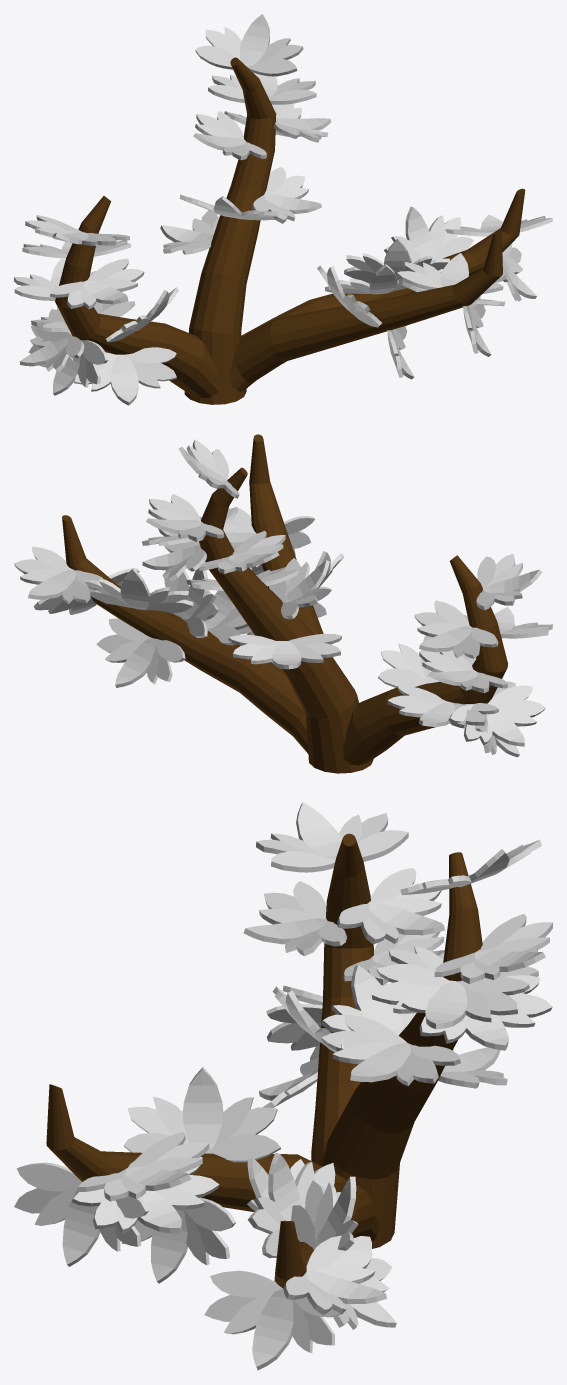
Rendered from Arbusto3Hoja3Otoño.fbx.
3 renders of one model, top to bottom at view 1: azimuth 30°, elevation 25°; view 2: azimuth 150°, elevation 25°; view 3: azimuth 270°, elevation 25°, orthographic. The views are drawn at different scales.
Parts seen in each view (by area): view 1: RamaArbusto3Hoja3Otoño; view 2: RamaArbusto3Hoja3Otoño; view 3: RamaArbusto3Hoja3Otoño.
Boxes of the visible parts, x1=… form: RamaArbusto3Hoja3Otoño: x1=14, y1=14, x2=552, y2=405; RamaArbusto3Hoja3Otoño: x1=14, y1=434, x2=552, y2=773; RamaArbusto3Hoja3Otoño: x1=14, y1=802, x2=552, y2=1370.
Bounding box in the file's own units: 187 × 111 × 119.
